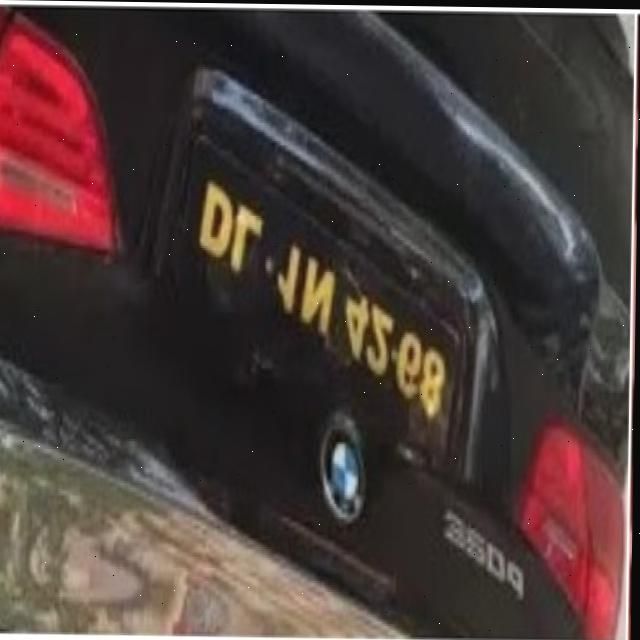plate: (176, 125, 470, 474)
